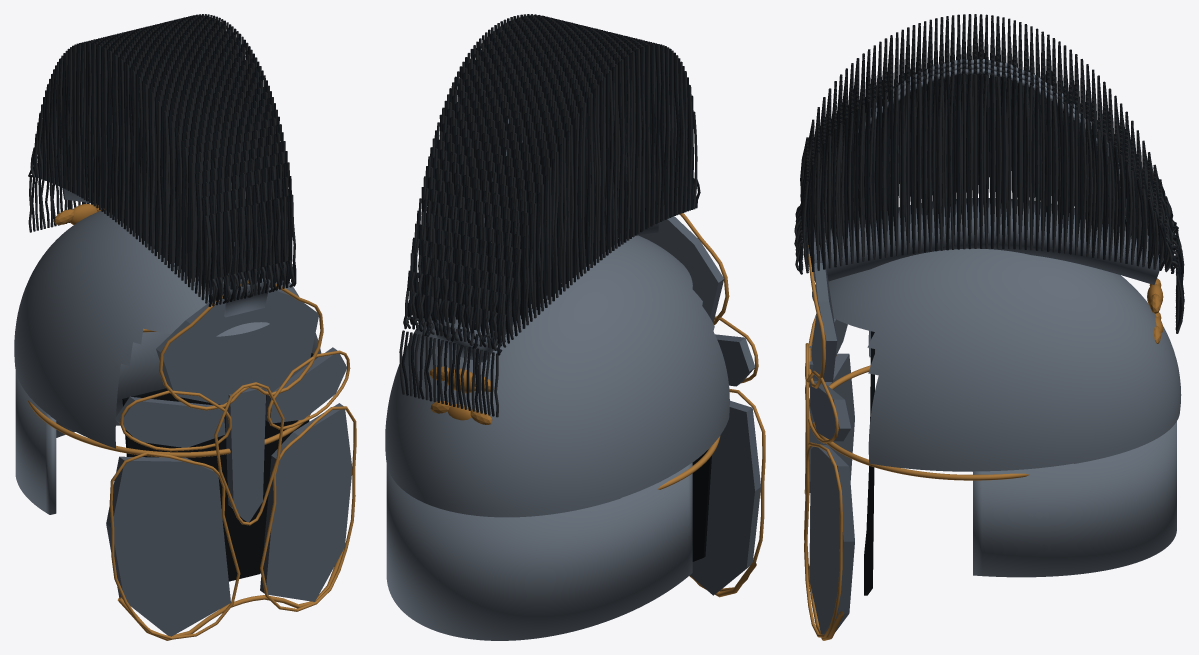
Rendered from helmet-aqueo-dimensioned-v5.glb.
The picture shows the model from 3 angles, left to right: view 1: azimuth 30°, elevation 25°; view 2: azimuth 150°, elevation 25°; view 3: azimuth 270°, elevation 25°; orthographic projection. The views are drawn at different scales.
Visible parts, largest first — view 1: Aqueo_CrestFibres, Aqueo_Shell, Aqueo_CheekL, Aqueo_CheekR, Aqueo_Forehead, Aqueo_NeckGuard, Aqueo_InteriorLiner, Aqueo_NoseGuard, Aqueo_BrowL, Aqueo_BrowR, Aqueo_CheekLTrim, Aqueo_CheekRTrim (+7 smaller); view 2: Aqueo_CrestFibres, Aqueo_Shell, Aqueo_NeckGuard, Aqueo_CheekL, Aqueo_Forehead, Aqueo_InteriorLiner, Aqueo_BrowL, Aqueo_CrestRail, Aqueo_CheekLTrim, Aqueo_ForeheadTrim; view 3: Aqueo_CrestFibres, Aqueo_Shell, Aqueo_NeckGuard, Aqueo_CrestRail, Aqueo_CheekR, Aqueo_Forehead, Aqueo_BrowR, Aqueo_CheekRTrim, Aqueo_LowerBand, Aqueo_CheekL, Aqueo_InteriorLiner, Aqueo_ForeheadTrim (+1 smaller).
Boxes of the visible parts, bbox=[...] form: Aqueo_CrestFibres: bbox=[28, 14, 296, 306]; Aqueo_Shell: bbox=[14, 211, 321, 448]; Aqueo_CheekL: bbox=[106, 456, 230, 636]; Aqueo_CheekR: bbox=[260, 403, 352, 601]; Aqueo_Forehead: bbox=[156, 287, 318, 404]; Aqueo_NeckGuard: bbox=[15, 332, 170, 514]; Aqueo_InteriorLiner: bbox=[122, 353, 313, 581]; Aqueo_NoseGuard: bbox=[225, 387, 266, 522]; Aqueo_BrowL: bbox=[115, 396, 225, 447]; Aqueo_BrowR: bbox=[265, 347, 346, 423]; Aqueo_CheekLTrim: bbox=[109, 452, 240, 639]; Aqueo_CheekRTrim: bbox=[260, 406, 356, 611]; Aqueo_CrestFibres: bbox=[399, 14, 700, 417]; Aqueo_Shell: bbox=[385, 235, 729, 517]; Aqueo_NeckGuard: bbox=[386, 463, 692, 640]; Aqueo_CheekL: bbox=[690, 400, 760, 595]; Aqueo_Forehead: bbox=[638, 216, 724, 322]; Aqueo_InteriorLiner: bbox=[692, 449, 711, 561]; Aqueo_BrowL: bbox=[715, 334, 755, 386]; Aqueo_CrestRail: bbox=[436, 223, 658, 362]; Aqueo_CheekLTrim: bbox=[689, 388, 765, 591]; Aqueo_ForeheadTrim: bbox=[680, 213, 729, 324]; Aqueo_CrestFibres: bbox=[794, 14, 1184, 333]; Aqueo_Shell: bbox=[812, 248, 1181, 471]; Aqueo_NeckGuard: bbox=[973, 421, 1176, 577]; Aqueo_CrestRail: bbox=[808, 198, 1163, 284]; Aqueo_CheekR: bbox=[809, 445, 854, 634]; Aqueo_Forehead: bbox=[811, 263, 837, 381]; Aqueo_BrowR: bbox=[810, 381, 851, 441]; Aqueo_CheekRTrim: bbox=[804, 442, 842, 637]; Aqueo_LowerBand: bbox=[812, 365, 1029, 480]; Aqueo_CheekL: bbox=[809, 353, 854, 562]; Aqueo_InteriorLiner: bbox=[864, 331, 874, 595]; Aqueo_ForeheadTrim: bbox=[808, 245, 825, 388].
Size of the model in its own units: 1.44 by 2.96 by 1.87.
